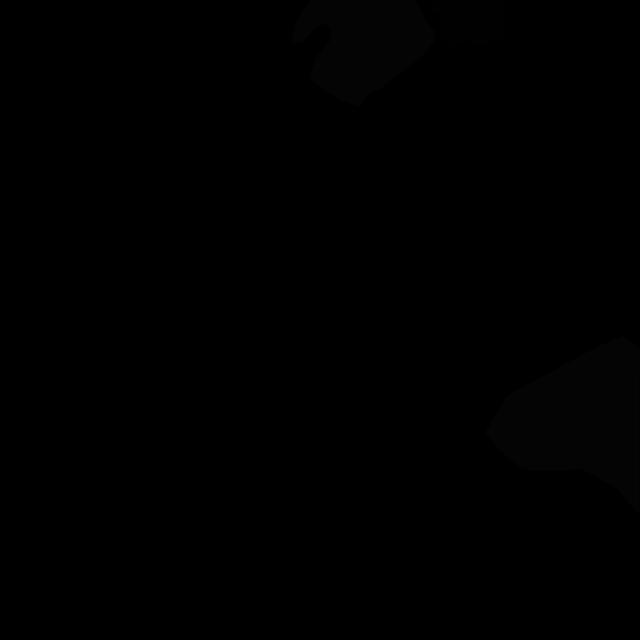rigid_plastic: (426, 0, 506, 47)
soft_plastic: (485, 336, 640, 514), (292, 0, 436, 106)
